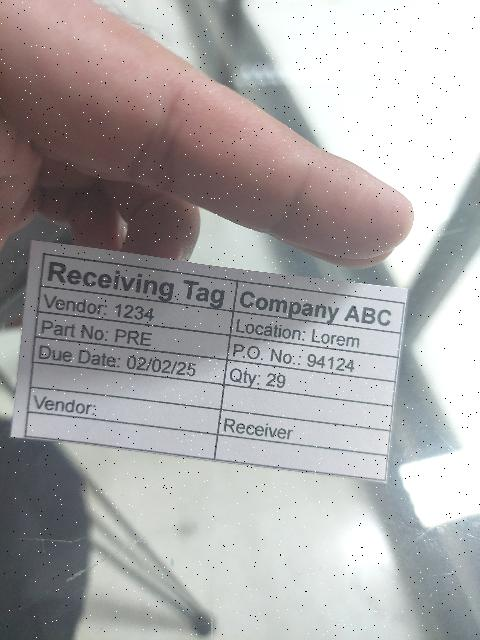PO no: (226, 334, 400, 384)
part no: (34, 311, 232, 362)
qty: (225, 359, 397, 407)
tags: (10, 241, 408, 486)
